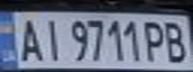1: (121, 17, 142, 62), (106, 17, 127, 62)
7: (84, 16, 106, 62)
9: (66, 16, 90, 62)
A: (12, 15, 45, 63)
B: (160, 18, 193, 64)
I: (36, 15, 66, 62)
P: (139, 17, 172, 63)
